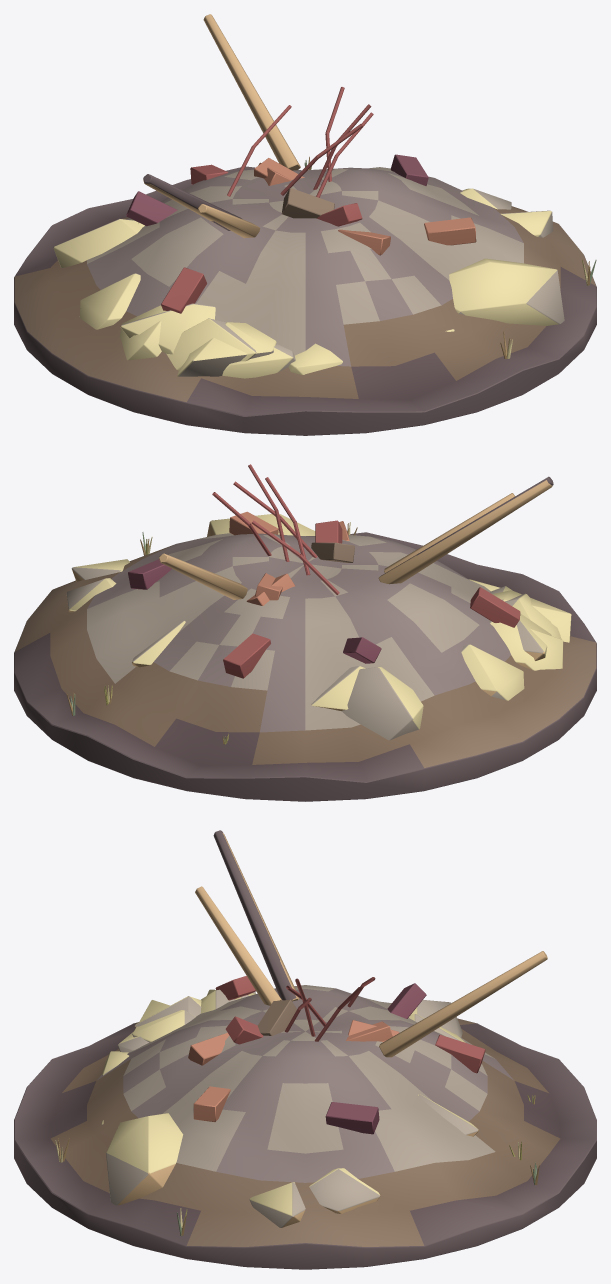
Rendered from ruined_masonry_v3.glb.
3 renders of one model, top to bottom at view 1: azimuth 30°, elevation 25°; view 2: azimuth 150°, elevation 25°; view 3: azimuth 270°, elevation 25°, orthographic.
Parts seen in each view (by area): view 1: Body; view 2: Body; view 3: Body.
Boxes of the visible parts, <box> form: Body: <box>14,14,596,435</box>; Body: <box>14,464,596,801</box>; Body: <box>14,830,596,1269</box>.
Size of the model in its own units: 0.84 by 0.3648 by 0.8354.
